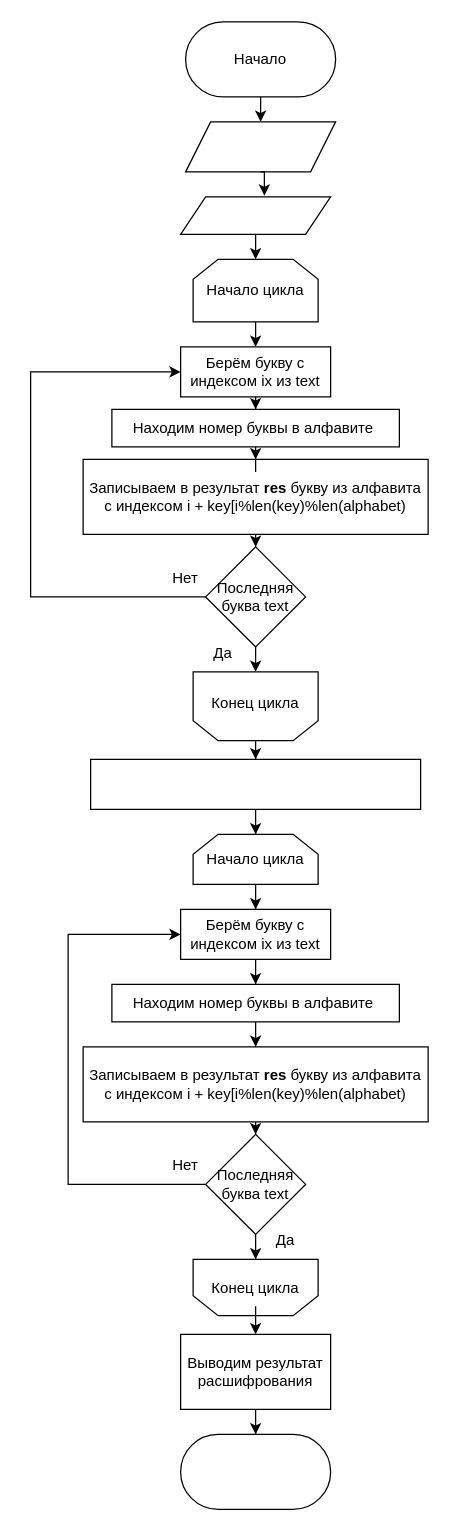
This 450x1531 diagram has some shape labels left out. Here are the shapes that lost their labels. From the top down, the box of each, then its label:
(184, 121, 336, 172): Ввод текста text
(179, 196, 331, 234): Ввод ключа key
(89, 758, 421, 809): Выводим результат шифрования
(179, 1433, 331, 1509): Конец
